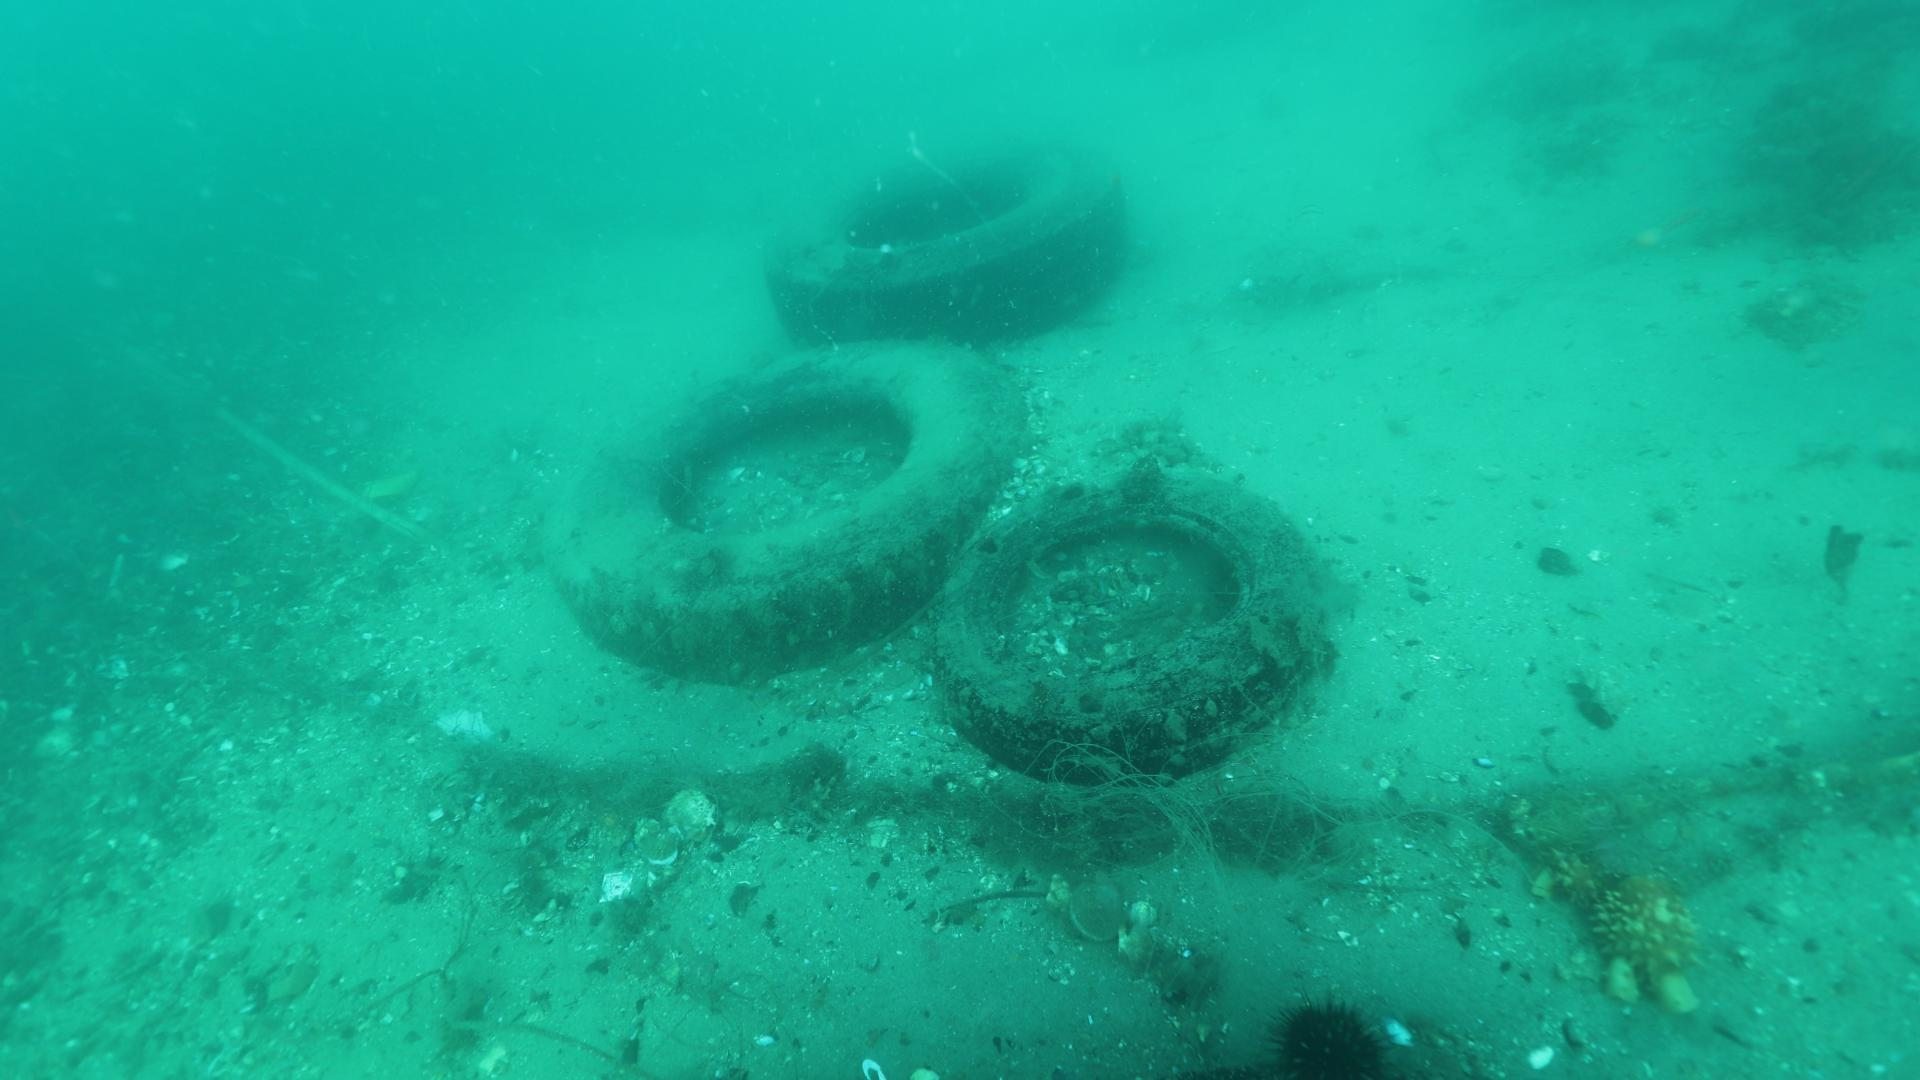tire: (541, 335, 1033, 678), (930, 465, 1323, 789), (756, 132, 1127, 348)
